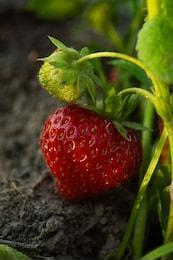Fresa: (34, 95, 147, 209)
